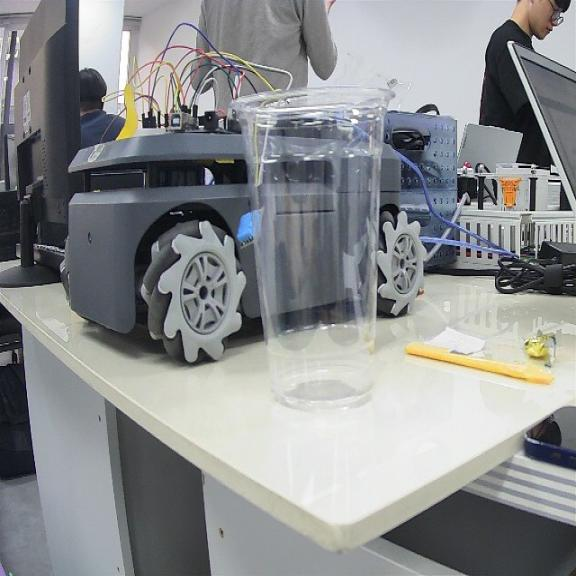Plastik: (234, 88, 390, 408)
